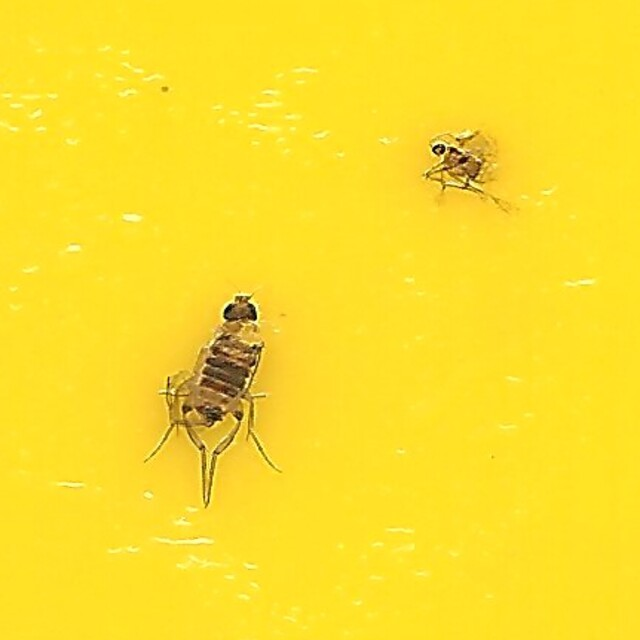Brachycera: (148, 291, 285, 510), (417, 130, 492, 199)
